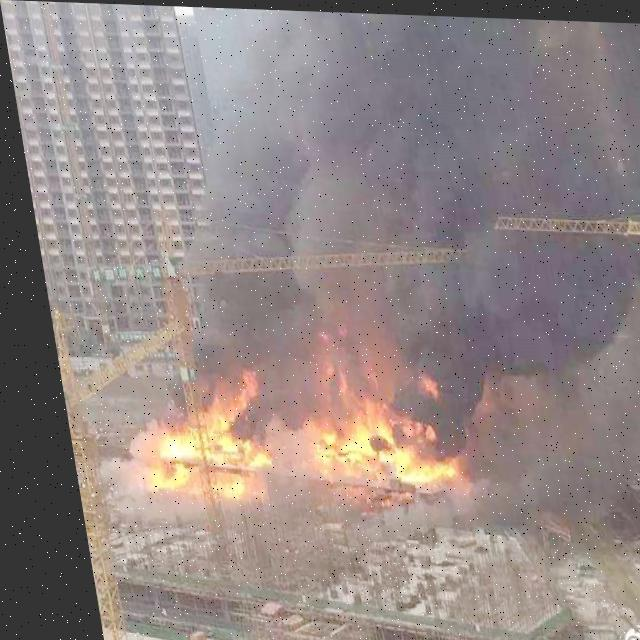Fire: (111, 323, 454, 499)
